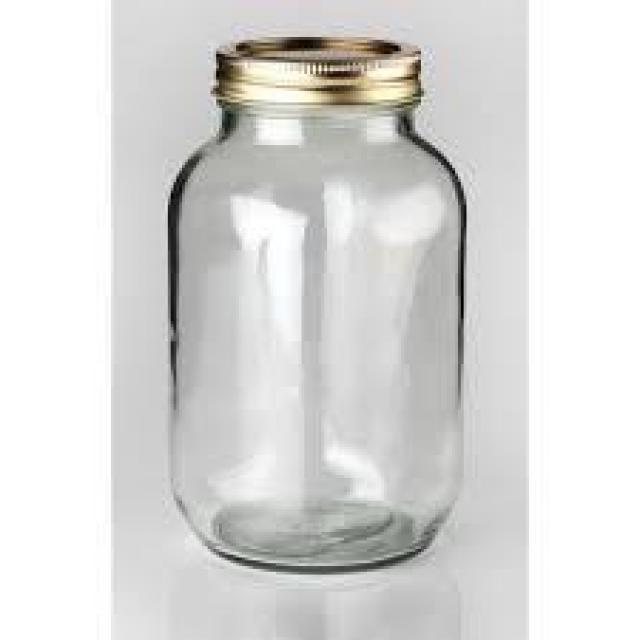glass: (163, 25, 468, 578)
